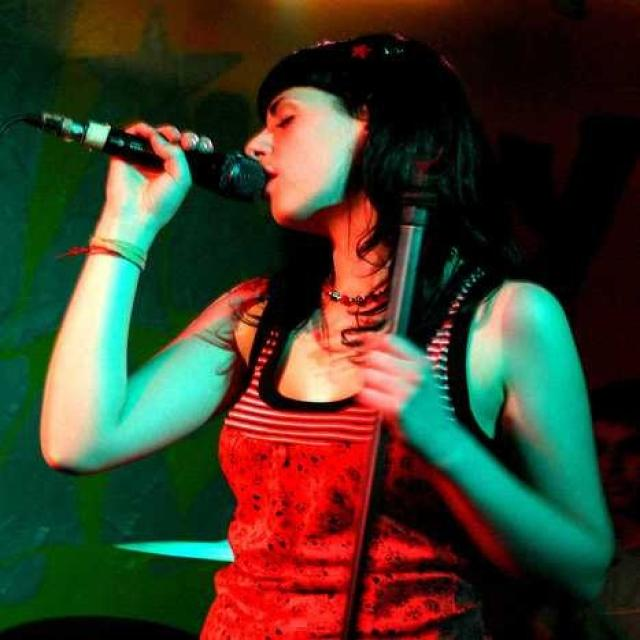microphone: (17, 110, 265, 206)
